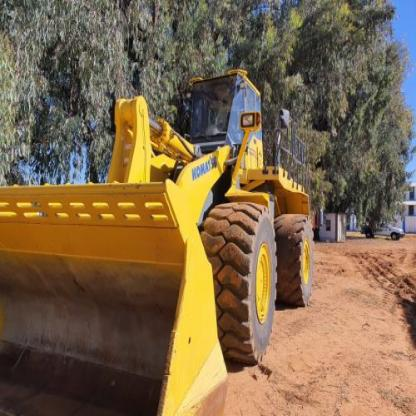bull_dozer/loader/grader: (5, 52, 324, 415)
